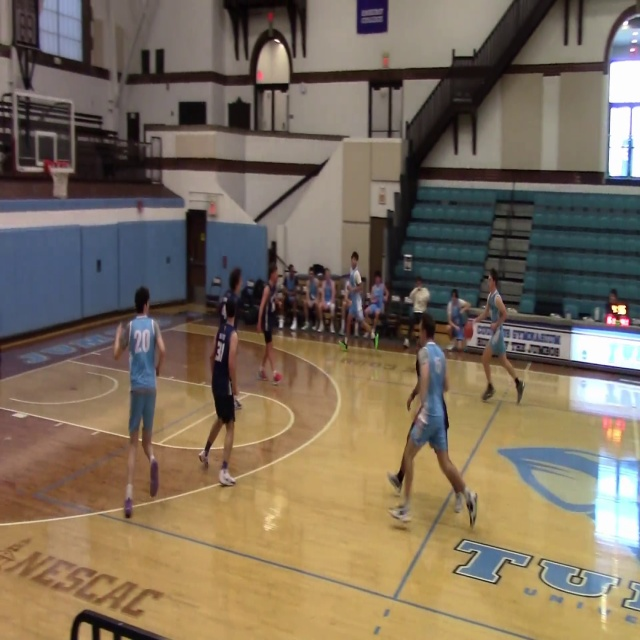Basketball: (463, 320, 473, 338), (272, 371, 282, 383)
